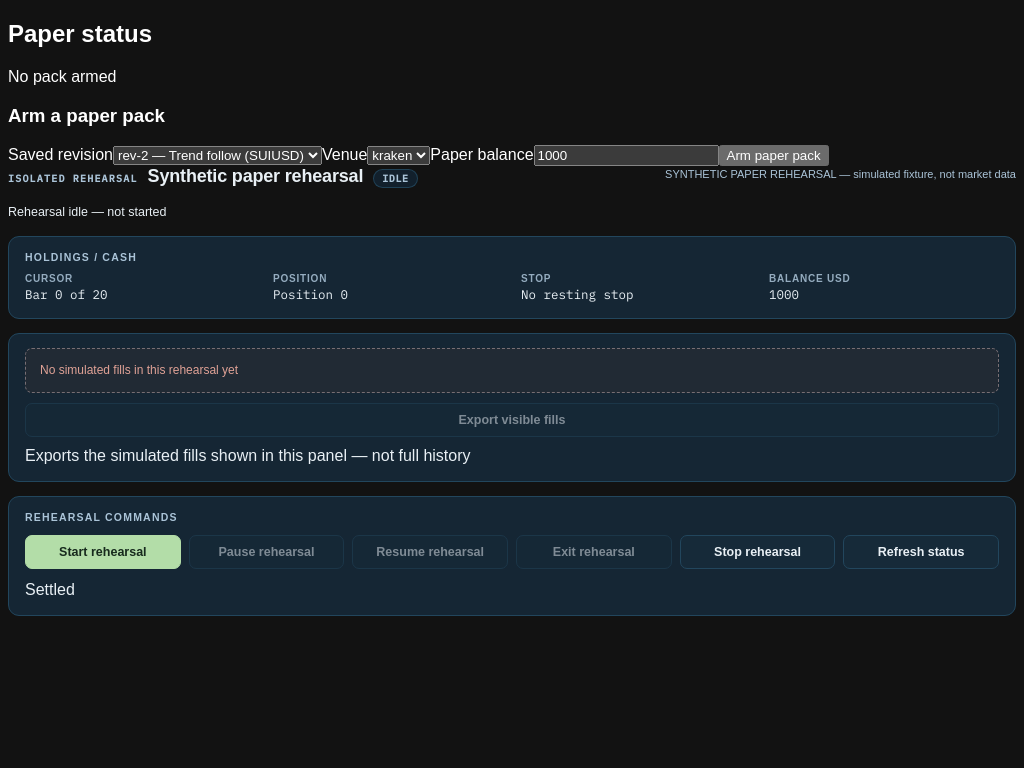
Test: StatusPanel post-arm automatic status refresh (Paper tab) › (a) after a successful Arm from unarmed, exactly one automatic getStatus() runs and the armed entries-paused raise-stop branch renders on the same panel
Expected: the element with test id "paper-arm-form" is shown, [8, 104, 829, 166]
Select "rev-2 — Trend follow (SUIUSD)" in the dropdown with test id "paper-arm-revision" at (218, 156), box [113, 146, 322, 165]
Replace the text in the field with test id "paper-arm-balance" with "250.50" at (626, 156), box [534, 145, 718, 166]
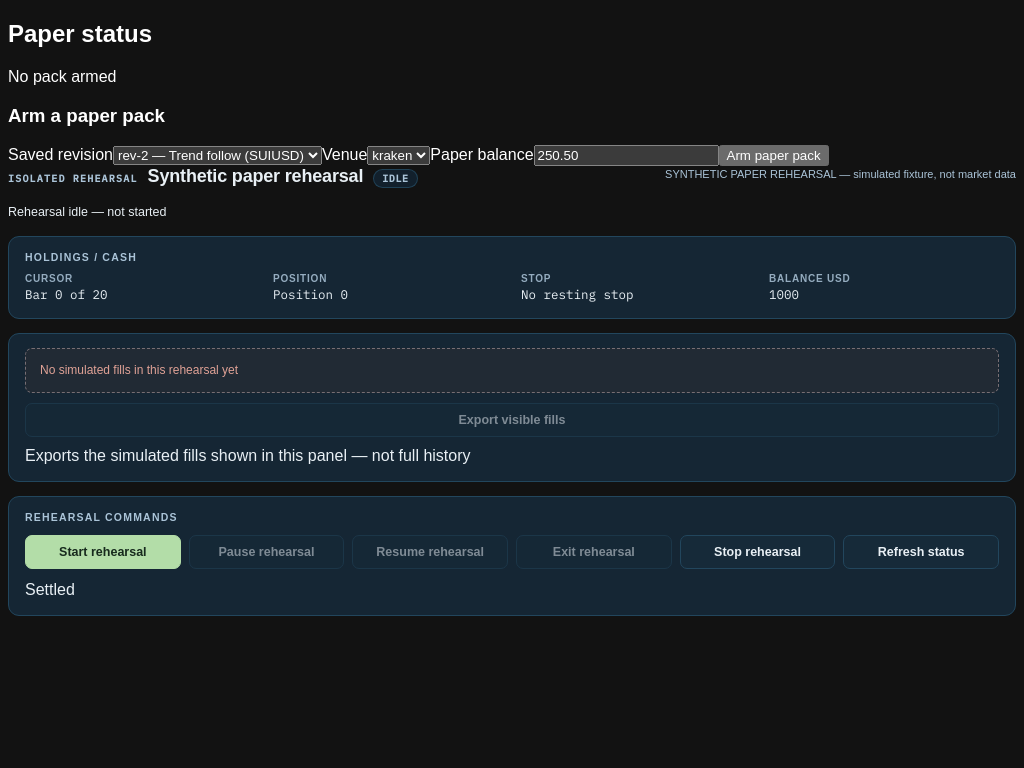
Click the button "Arm paper pack" at (774, 156), box [718, 145, 829, 166]
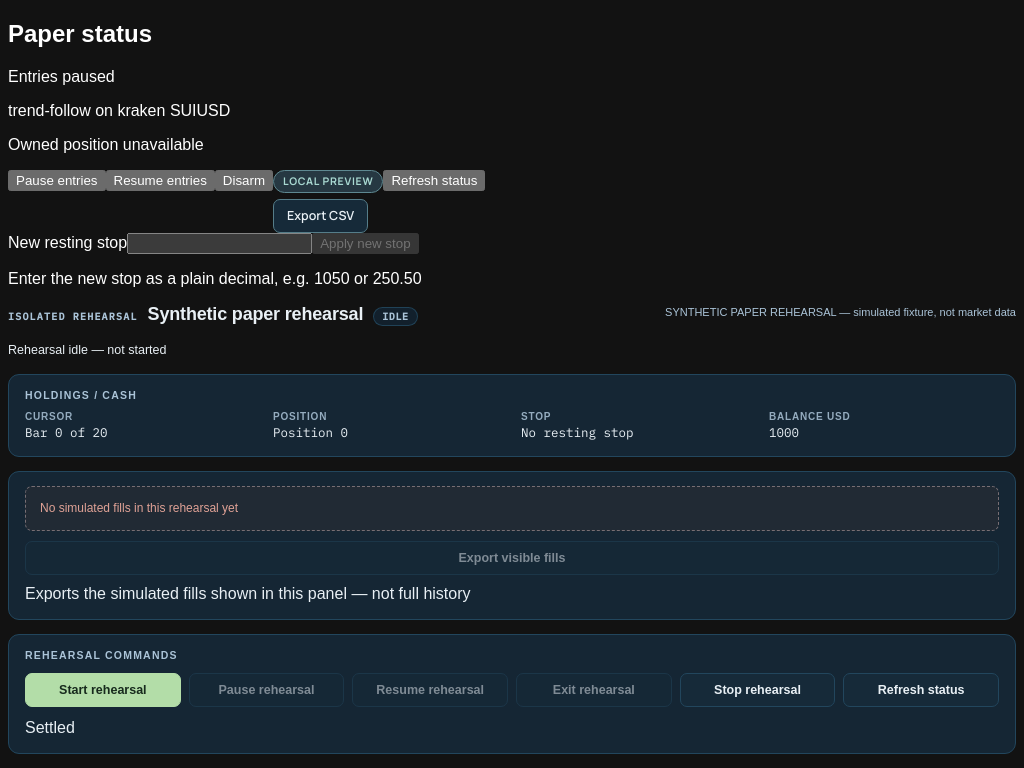
Now the text with test id "paper-status-entries" reads "Entries paused", box [8, 68, 115, 85]
Now the text with test id "paper-status-pack" reads "trend-follow on kraken SUIUSD", box [8, 102, 230, 119]
Now the button "Pause entries" is enabled, box [8, 170, 106, 191]
